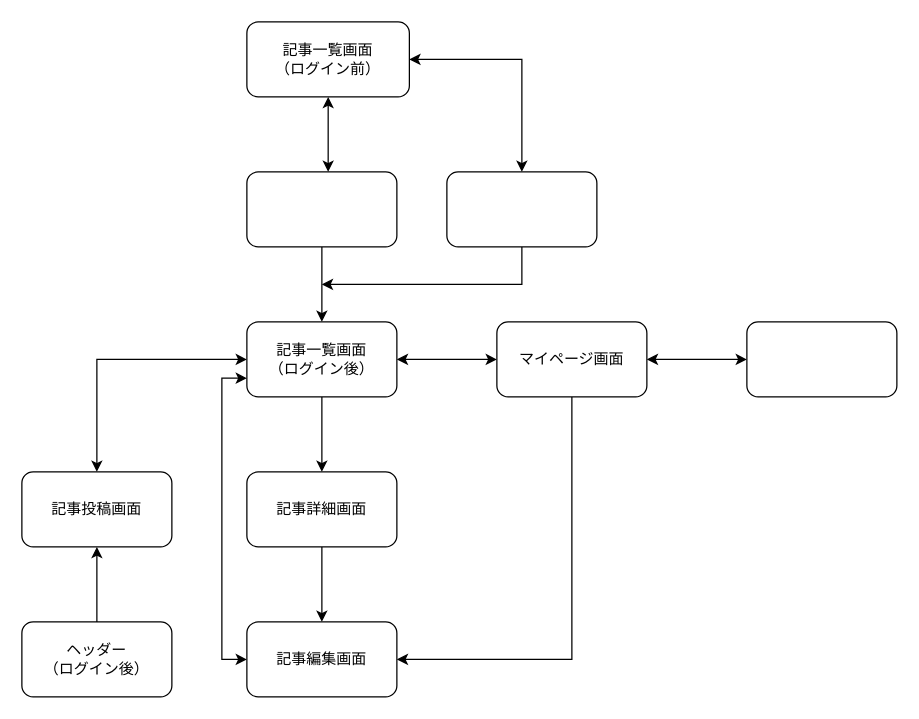
The diagram is 919 pixels wide and 719 high, and some of its shapes have lost their labels. Here are the shapes that lost their labels. From the top down, the centre of each, then its label:
At point (321, 209): "ユーザー登録画面".
At point (521, 209): "ログイン画面".
At point (821, 359): "ユーザー情報 編集画面".
